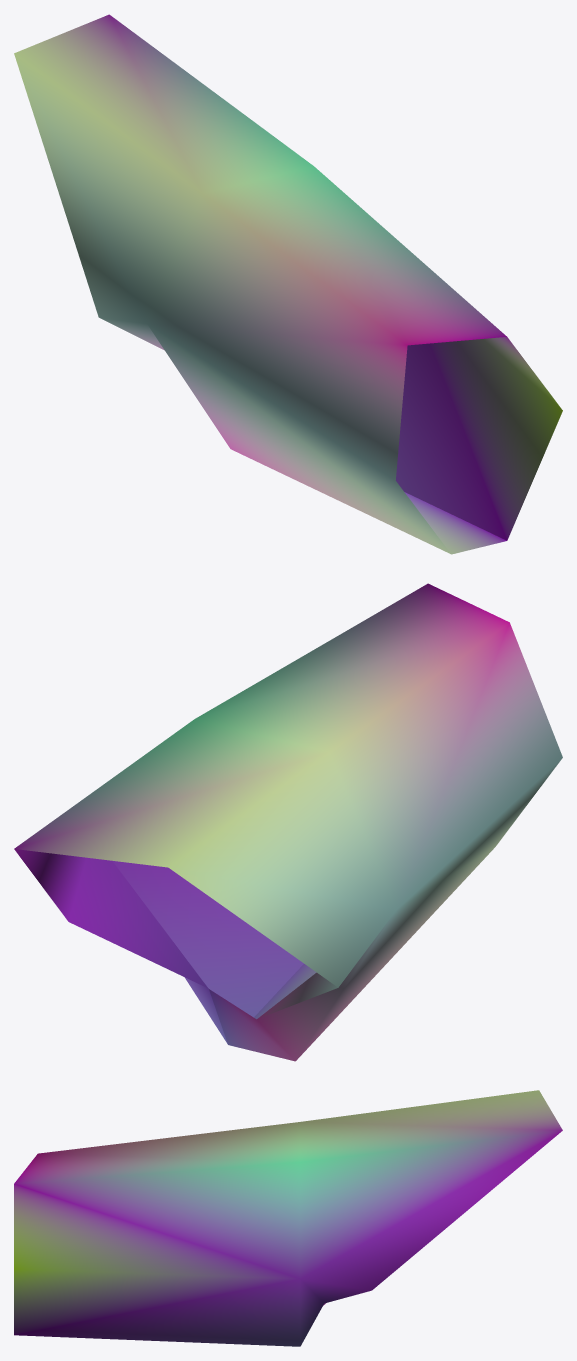
3 views of the same model, one above another, from view 1: azimuth 30°, elevation 25°; view 2: azimuth 150°, elevation 25°; view 3: azimuth 270°, elevation 25° (orthographic). The views are drawn at different scales.
Visible parts, largest first — view 1: part; view 2: part; view 3: part.
Part boxes in pixels (left/top/right/bottom): part: left=14, top=14, right=562, bottom=554; part: left=14, top=583, right=562, bottom=1061; part: left=14, top=1090, right=562, bottom=1346.
Bounding box in the file's own units: 9 × 10 × 23.
